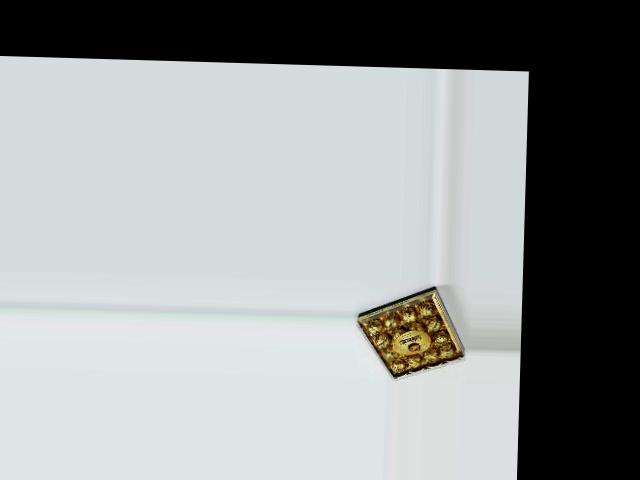chocolate: (353, 282, 468, 382)
